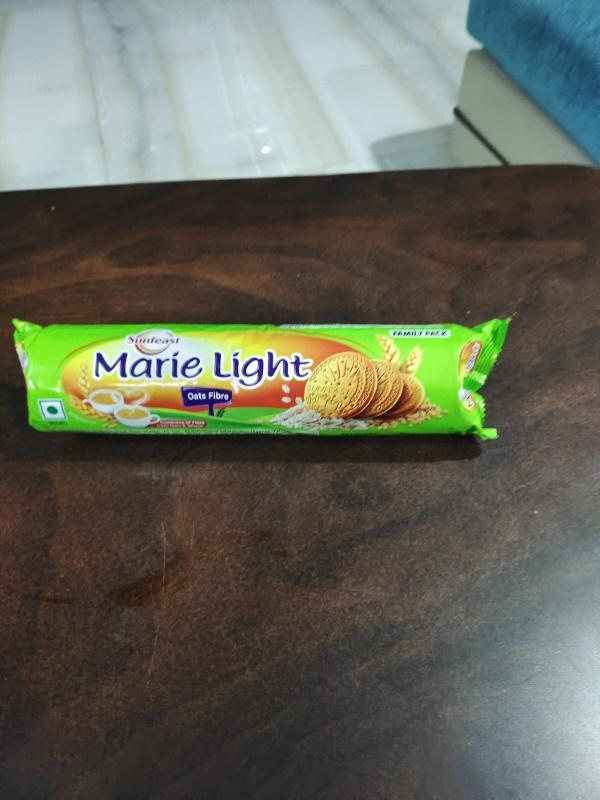MarieLight: (8, 295, 510, 464)
